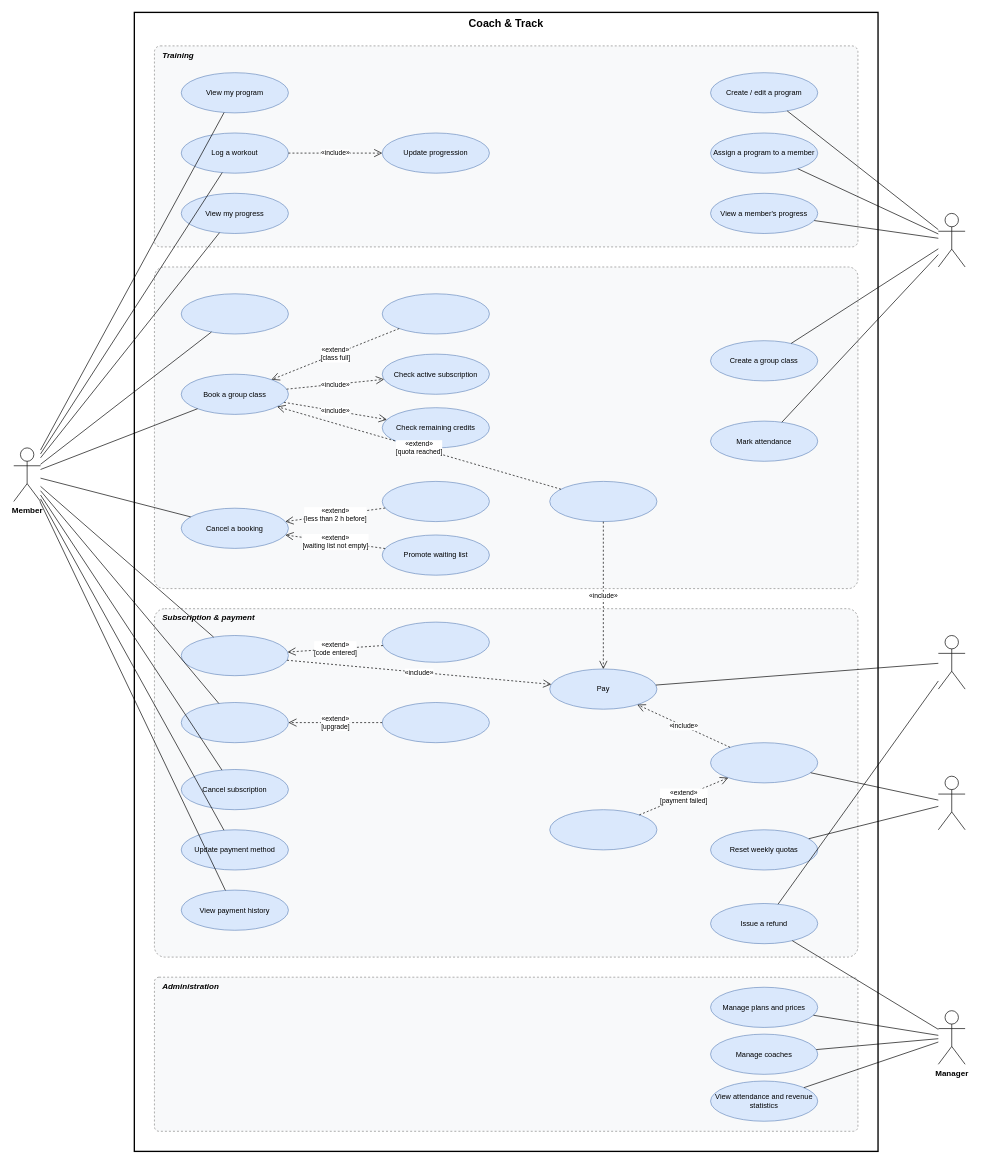
Image size: 998x1163. Some labels were removed from this diagram. Each missing label, with the box of its shape:
Apply late-cancellation penalty: (382, 481, 489, 522)
Apply promo code: (382, 621, 489, 662)
Buy an extra class: (549, 481, 657, 522)
Change plan: (181, 702, 288, 743)
Coach: (938, 213, 965, 267)
Compute prorated amount: (382, 702, 489, 743)
Group classes: (154, 266, 858, 589)
Join waiting list: (382, 293, 489, 334)
Payment Gateway: (938, 635, 965, 689)
Renew subscription: (710, 742, 818, 783)
Retry failed payment: (549, 809, 657, 850)
Scheduler: (938, 776, 965, 830)
Subscribe to a plan: (181, 635, 288, 676)
View remaining classes this week: (181, 293, 288, 334)
